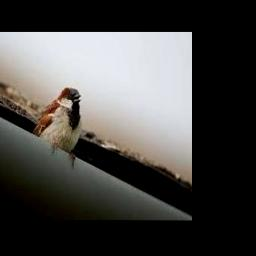Sparrow: (31, 88, 82, 165)
